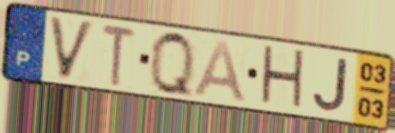A: (190, 37, 250, 106)
H: (258, 42, 307, 114)
J: (311, 57, 350, 114)
Q: (148, 28, 197, 102)
T: (100, 21, 139, 89)
V: (46, 14, 98, 83)
